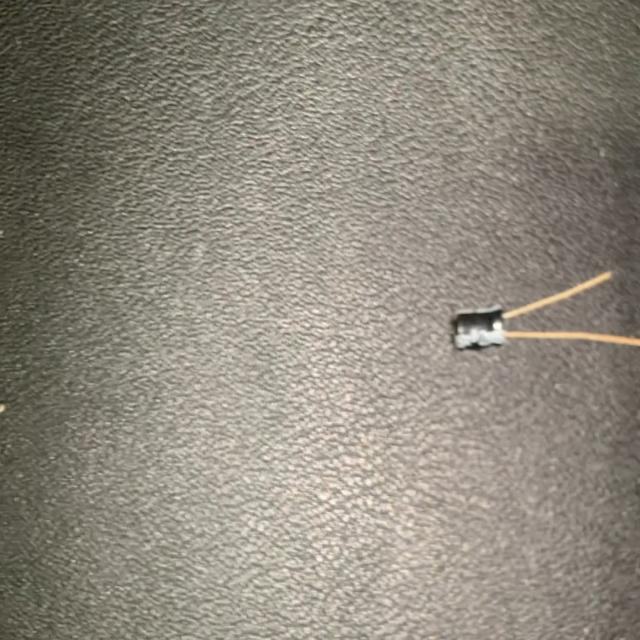capacitor: (449, 260, 640, 356)
